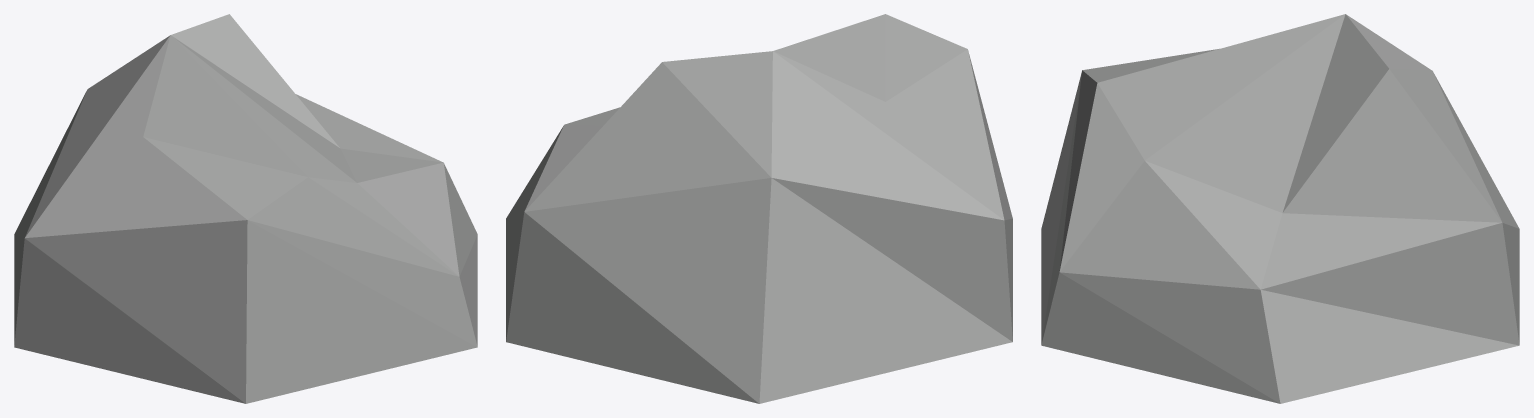
Rendered from Rock_Mid_2.fbx.
The picture shows the model from 3 angles, left to right: view 1: azimuth 30°, elevation 25°; view 2: azimuth 150°, elevation 25°; view 3: azimuth 270°, elevation 25°; orthographic projection. The views are drawn at different scales.
Visible parts, largest first — view 1: Rock_Mid_2; view 2: Rock_Mid_2; view 3: Rock_Mid_2.
Part boxes in pixels (x1,y1,x2,y2): Rock_Mid_2: (14,14,477,403); Rock_Mid_2: (506,14,1012,403); Rock_Mid_2: (1041,14,1519,403).
Size of the model in its own units: 1.46 by 0.7304 by 1.26.
